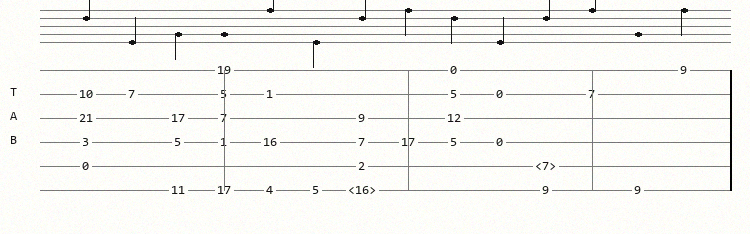0: (82, 160, 93, 172), (450, 64, 461, 76), (496, 88, 507, 100), (496, 136, 507, 148)
1: (220, 136, 231, 148), (266, 88, 277, 100)
10: (79, 88, 97, 100)
11: (171, 184, 189, 196)
12: (447, 112, 465, 124)
16: (263, 136, 281, 148)
17: (171, 112, 189, 124), (217, 184, 235, 196), (401, 136, 419, 148)
19: (217, 64, 235, 76)
2: (358, 160, 369, 172)
21: (79, 112, 97, 124)
3: (82, 136, 93, 148)
4: (266, 184, 277, 196)
5: (174, 136, 185, 148), (220, 88, 231, 100), (312, 184, 323, 196), (450, 88, 461, 100), (450, 136, 461, 148)
7: (128, 88, 139, 100), (220, 112, 231, 124), (358, 136, 369, 148), (588, 88, 599, 100)
9: (358, 112, 369, 124), (542, 184, 553, 196), (634, 184, 645, 196), (680, 64, 691, 76)
harmonic: (348, 184, 380, 196), (535, 160, 560, 172)
